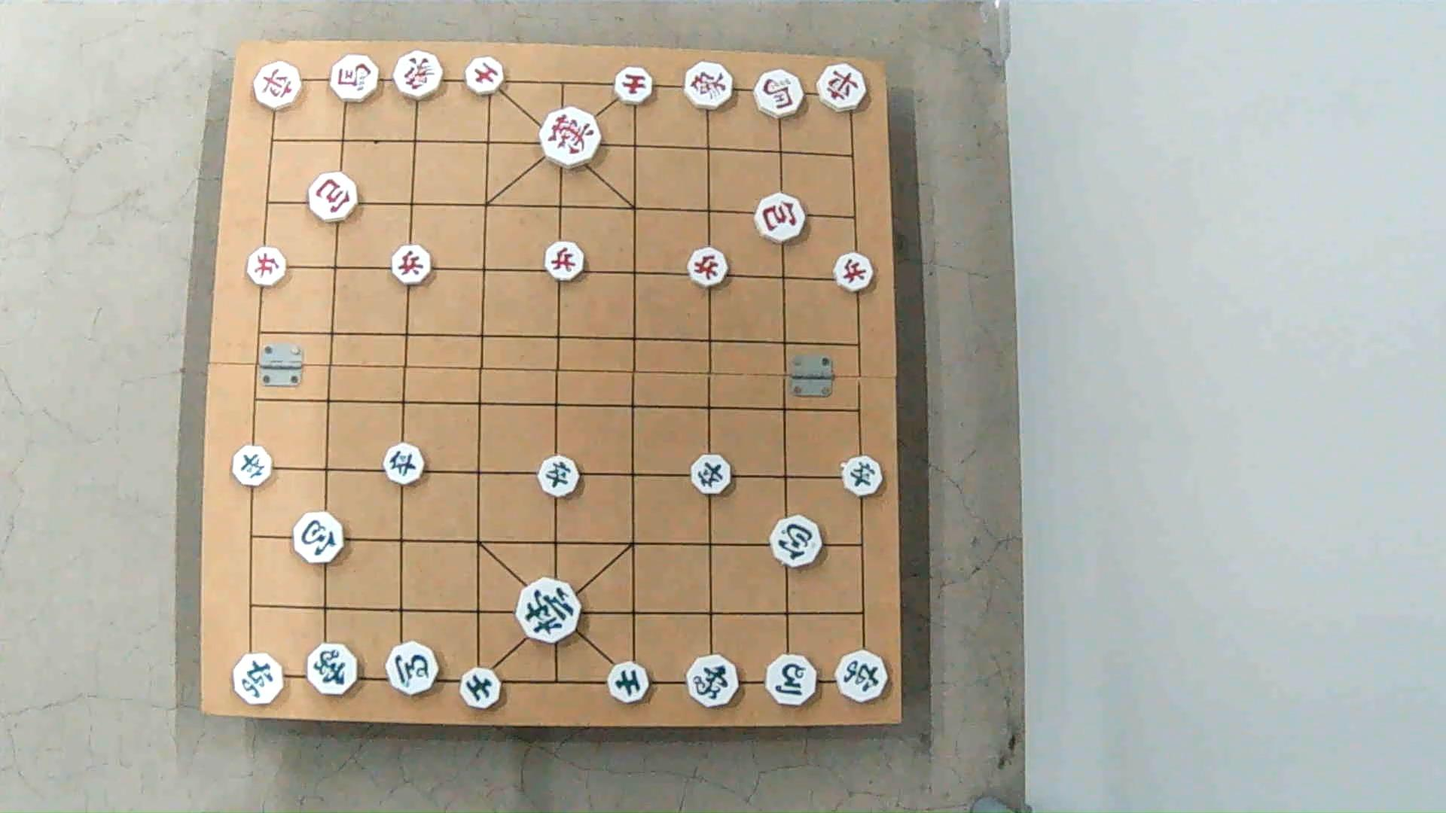cha_green: (834, 650, 886, 703), (234, 654, 286, 704)
cha_red: (818, 61, 868, 112), (251, 63, 300, 108)
jol_green: (539, 458, 581, 498), (382, 444, 424, 484), (692, 454, 734, 493), (844, 458, 886, 497), (232, 446, 272, 485)
jol_red: (545, 240, 588, 279), (830, 254, 872, 292), (395, 248, 438, 285), (688, 248, 729, 286), (245, 249, 285, 286)
ma_green: (388, 639, 438, 695), (764, 656, 818, 705)
ma_red: (329, 54, 379, 102), (755, 72, 806, 117)
po_green: (770, 517, 823, 567), (294, 513, 346, 563)
po_red: (306, 172, 356, 220), (756, 195, 807, 242)
sa_green: (461, 667, 502, 708), (606, 662, 648, 701)
sa_red: (465, 57, 506, 93), (615, 68, 655, 102)
sang_green: (683, 654, 740, 703), (310, 643, 357, 696)
sang_red: (682, 60, 732, 111), (392, 51, 444, 99)
wang_green: (517, 582, 579, 641)
wang_red: (538, 109, 599, 166)
